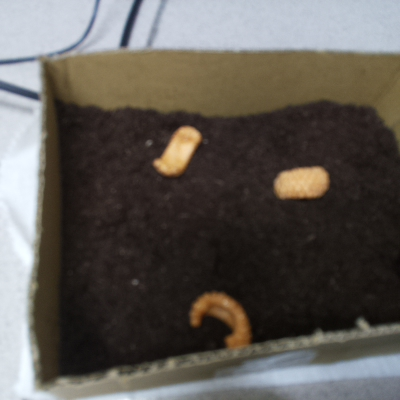eggs: (185, 286, 256, 354), (147, 120, 204, 180), (270, 161, 334, 206)
